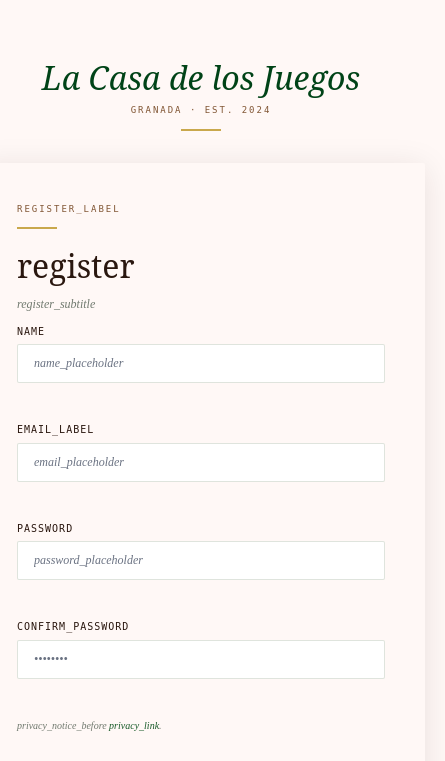
Test case: components/auth/RegisterForm.tsx › muestra error_generic para errores de servidor desconocidos
Step 1. Type "Ana" into the field labelled "name" → [201, 364], box [17,344,385,383]
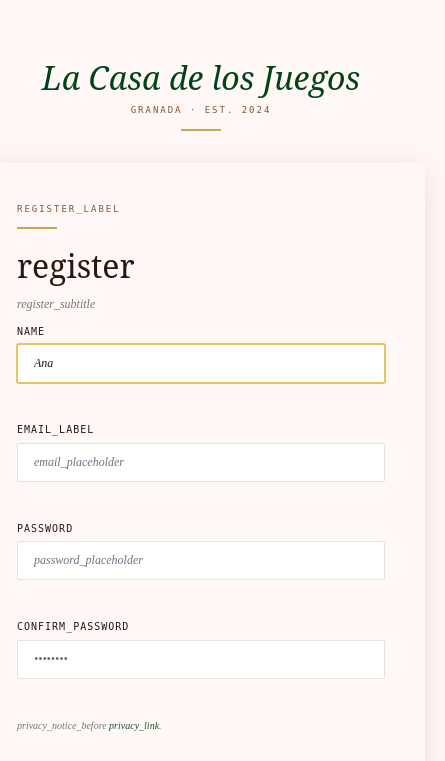
Step 2. Type "ana@test.com" into the field labelled "email_label" → [201, 462], box [17,443,385,482]
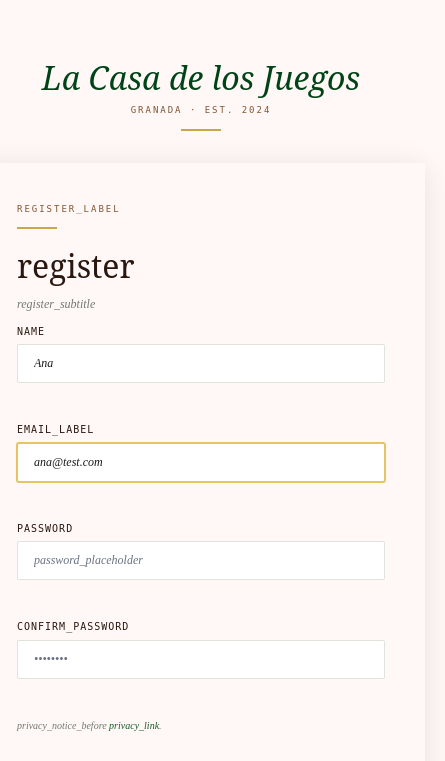
Step 3. Type "mypassword" into the password field labelled "password" → [201, 561], box [17,541,385,580]
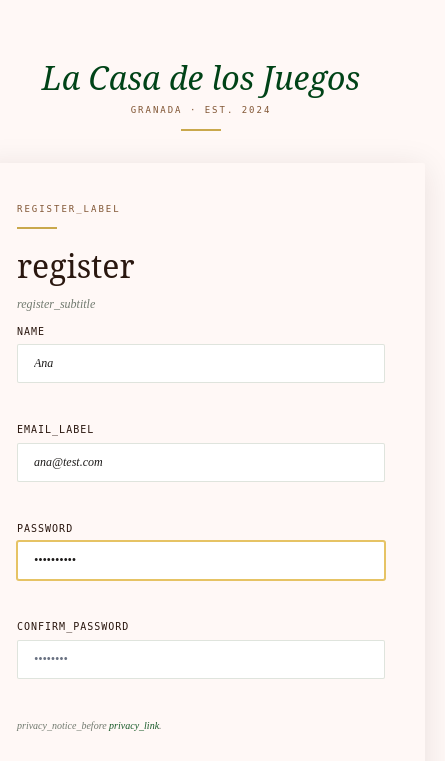
Step 4. Type "mypassword" into the password field labelled "confirm_password" → [201, 659], box [17,640,385,679]
(page scrolled)
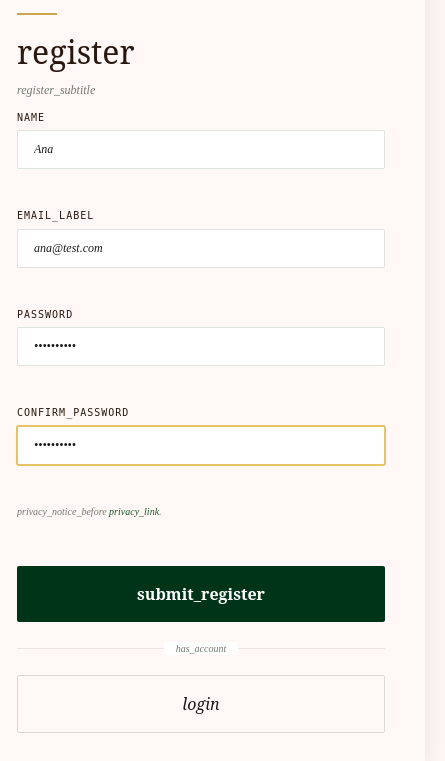
Step 5. Click the button "submit_register" → [201, 594], box [17,566,385,622]
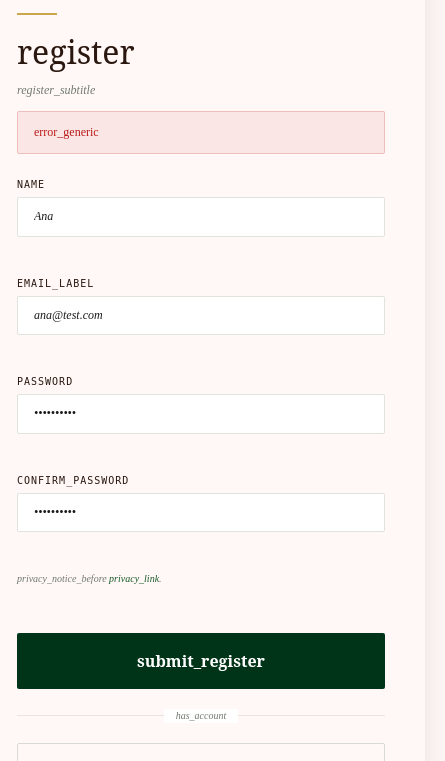
expect the text "error_generic" is shown: met, box [17,111,385,154]
